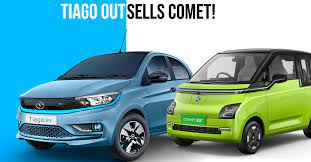Tiago: (9, 48, 200, 161)
